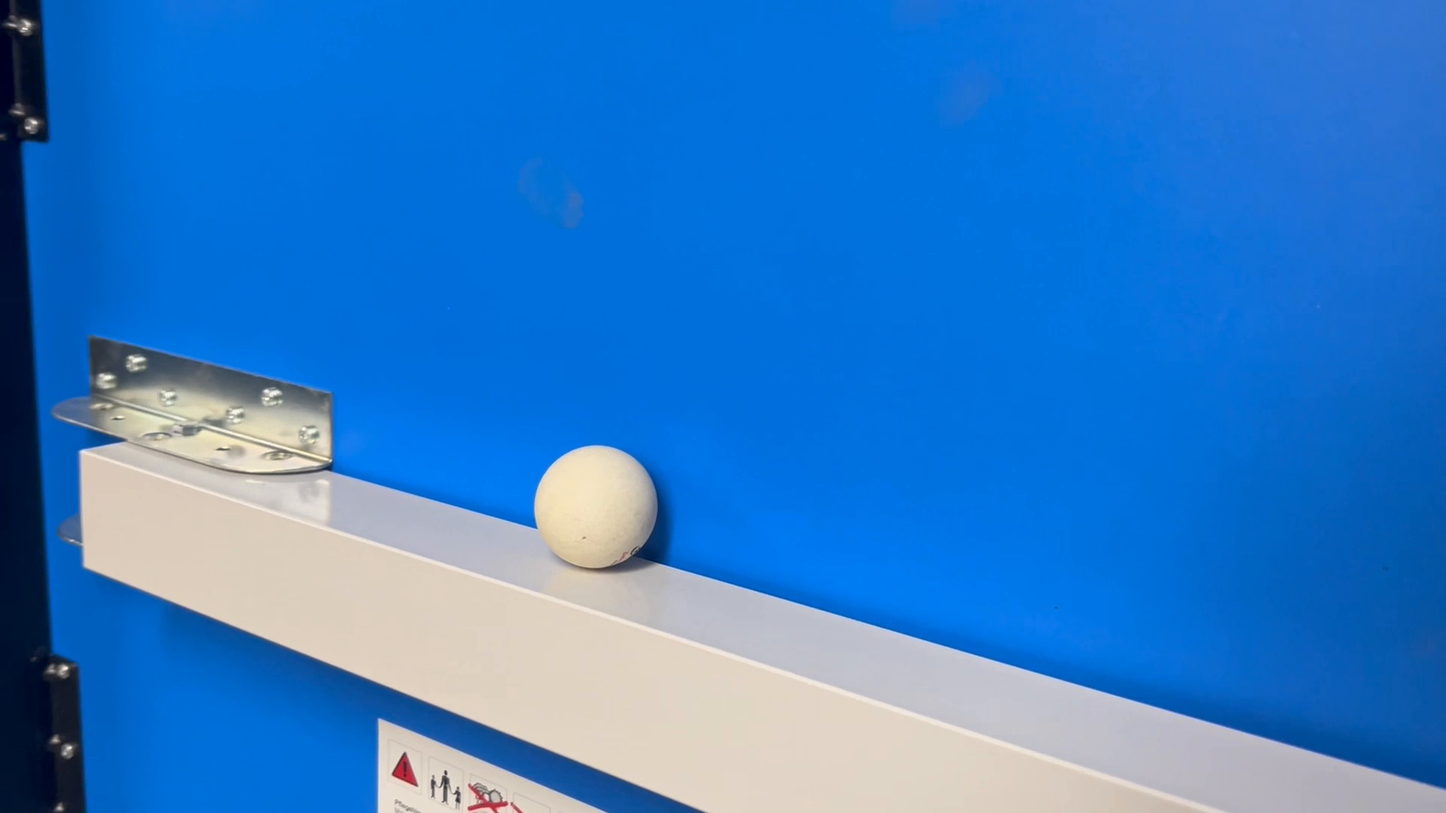Ball: (519, 436, 667, 567)
